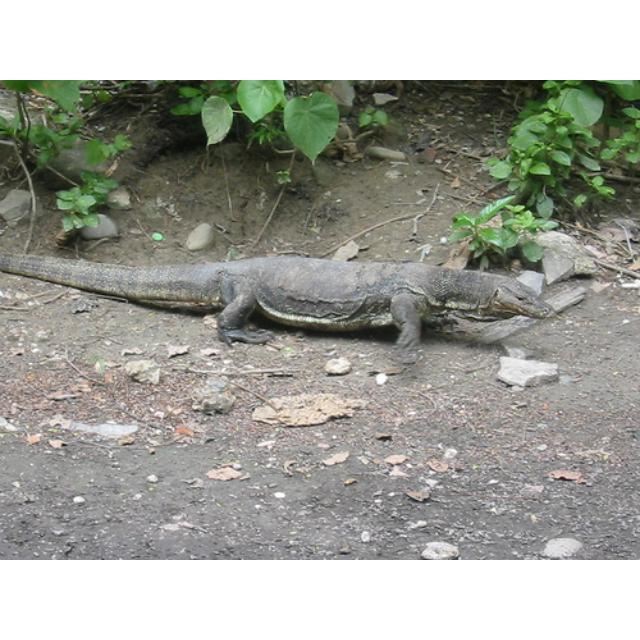KomodoDragon: (1, 250, 552, 365)
